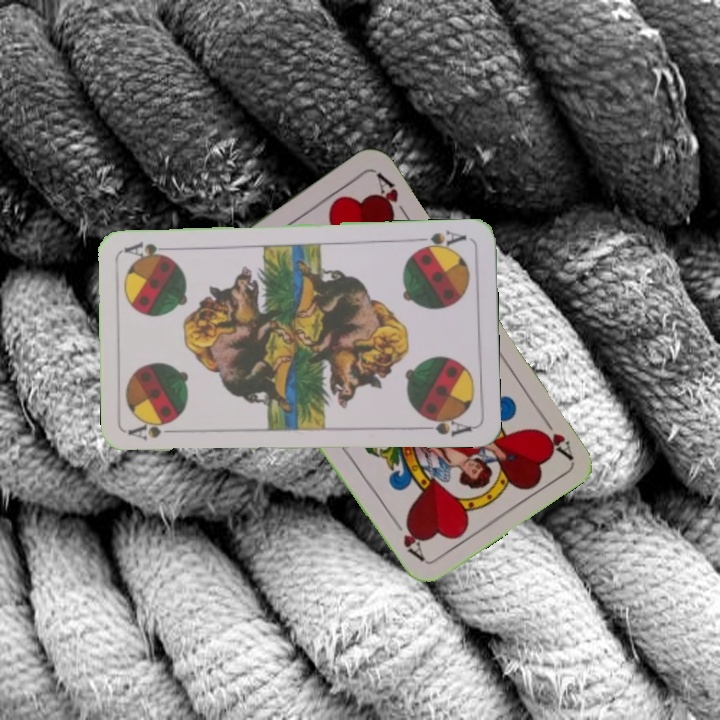HA: (533, 408, 575, 461)
SA: (411, 226, 469, 254), (126, 418, 185, 443)
